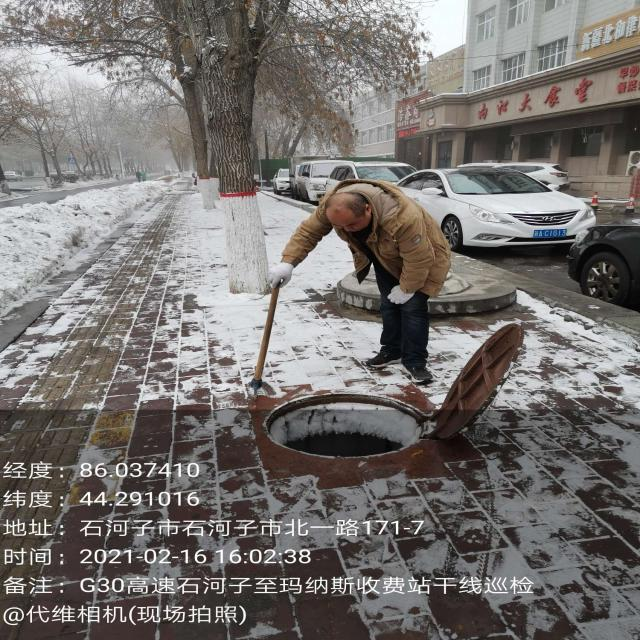manhole: (253, 390, 491, 495)
